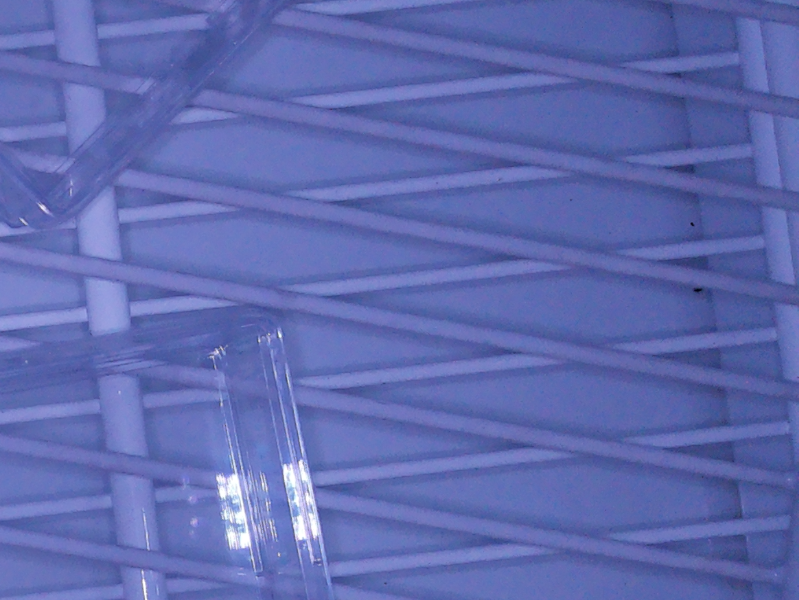plate: (1, 302, 334, 600), (1, 1, 292, 229)
